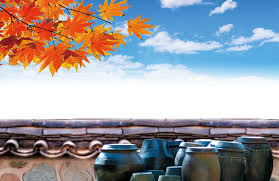sky: (117, 1, 278, 116)
tree: (2, 1, 138, 68)
